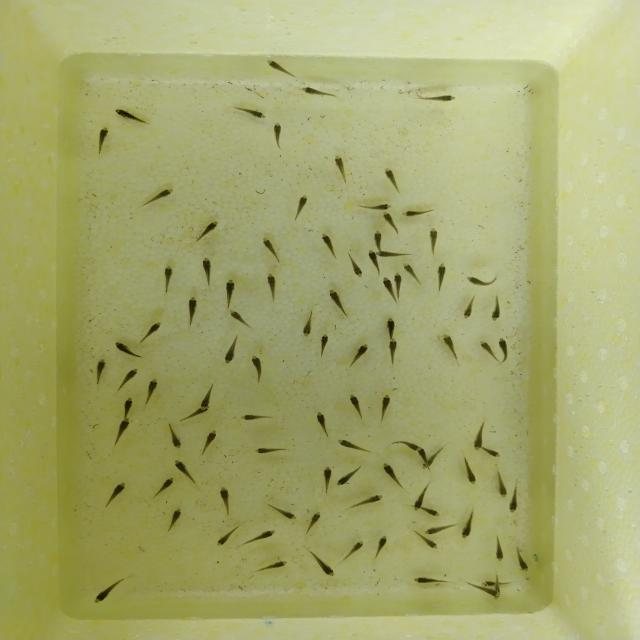fingerling: (310, 552, 338, 580), (89, 580, 119, 606), (115, 366, 142, 394), (326, 289, 352, 318), (190, 219, 220, 243), (112, 108, 146, 128), (112, 417, 133, 448), (171, 458, 196, 483), (99, 484, 126, 507), (139, 319, 167, 341), (476, 337, 500, 362), (114, 340, 144, 360), (415, 92, 460, 105), (199, 427, 219, 456), (412, 480, 429, 514), (226, 308, 252, 330), (300, 312, 318, 343), (378, 459, 402, 482), (342, 538, 367, 560), (356, 491, 388, 508), (144, 188, 176, 205), (262, 56, 292, 74), (334, 468, 364, 486), (165, 423, 184, 451), (348, 394, 367, 422), (333, 436, 366, 452), (244, 529, 277, 545), (432, 262, 449, 293), (264, 238, 284, 264), (488, 295, 503, 329), (350, 341, 372, 364), (154, 477, 175, 501), (414, 534, 441, 552), (332, 153, 350, 180), (270, 506, 300, 522), (322, 234, 341, 259), (248, 356, 267, 381), (508, 481, 521, 517), (94, 125, 110, 154), (186, 294, 200, 327), (377, 394, 392, 424), (294, 193, 312, 218), (236, 106, 268, 120), (144, 375, 160, 403), (498, 334, 514, 362), (383, 166, 400, 192), (92, 357, 107, 386), (460, 510, 474, 541), (218, 483, 232, 514), (222, 275, 238, 302), (197, 387, 215, 411), (300, 86, 336, 98), (168, 506, 186, 530), (513, 551, 531, 575), (257, 559, 290, 572), (266, 272, 280, 302), (384, 338, 399, 366), (467, 275, 497, 289), (215, 529, 237, 548), (462, 458, 478, 484), (462, 298, 478, 324), (304, 511, 322, 534), (441, 330, 458, 354), (316, 335, 333, 359), (119, 396, 136, 420), (472, 428, 489, 452), (223, 340, 238, 367), (314, 408, 329, 435), (380, 210, 398, 232), (200, 257, 215, 283), (400, 262, 422, 279), (349, 256, 366, 278), (474, 584, 502, 597), (321, 464, 335, 490), (270, 121, 284, 147), (428, 231, 440, 261), (496, 472, 508, 502), (238, 413, 277, 422), (412, 576, 447, 586), (162, 264, 174, 293), (383, 315, 398, 338), (187, 405, 210, 420), (424, 524, 455, 535), (374, 532, 388, 556), (375, 250, 412, 259), (370, 229, 387, 248), (396, 441, 425, 452), (360, 203, 394, 212), (400, 207, 430, 217), (482, 446, 505, 459), (420, 506, 444, 518), (392, 270, 403, 296), (382, 274, 393, 298), (252, 447, 287, 454), (495, 538, 505, 562), (368, 250, 377, 272), (482, 580, 498, 586)
